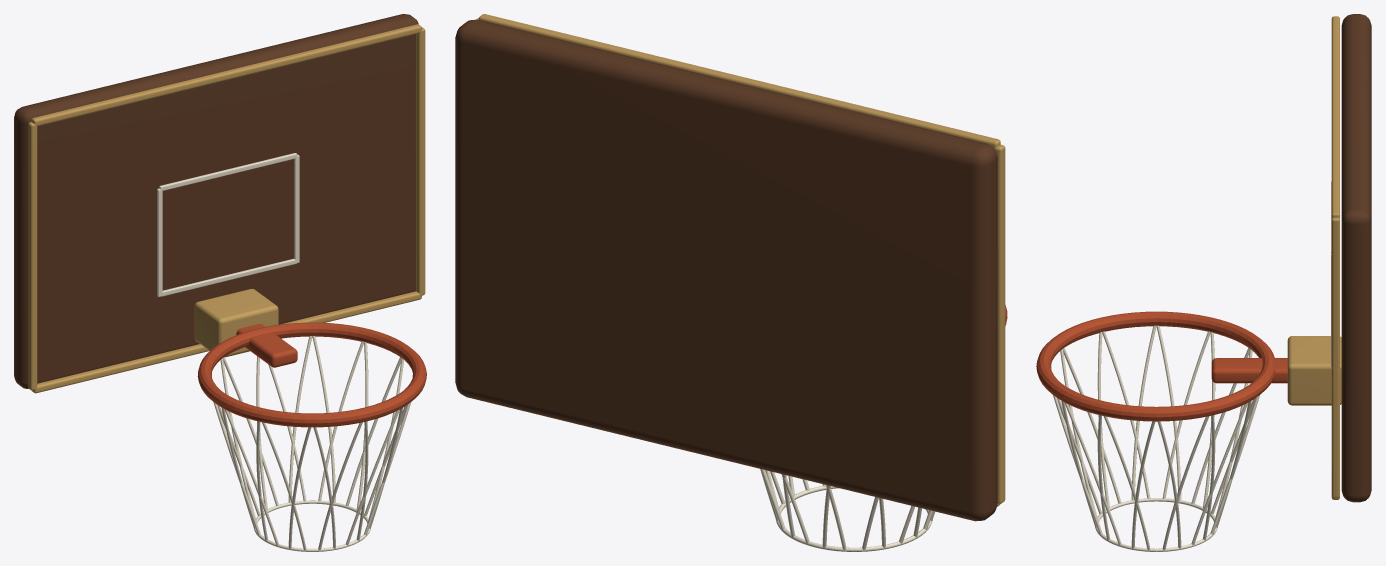
The model's file is PaperHoop.fbx.
The picture shows the model from 3 angles, left to right: view 1: azimuth 30°, elevation 25°; view 2: azimuth 150°, elevation 25°; view 3: azimuth 270°, elevation 25°; orthographic projection. The views are drawn at different scales.
Parts seen in each view (by area): view 1: Backboard, Scoring_Rim, Brass_edge.001, Rim_mount, Brass_edge, Brass_side, Brass_side.001, Rim_support, Target_edge.001, Target_edge, Net_binding.001, Target_side (+4 smaller); view 2: Backboard, Brass_edge.001, Brass_side, Net_binding.001; view 3: Backboard, Scoring_Rim, Rim_mount, Brass_side.001, Brass_edge.001, Rim_support, Net_binding.001, Net_1_06, Net_-1_06, Net_-1_07, Net_1_05, Net_1_10 (+13 smaller).
Boxes of the visible parts, x1,y1,x2,y2 form: Backboard: (14,14,418,388); Scoring_Rim: (197,322,426,427); Brass_edge.001: (31,24,421,126); Rim_mount: (194,288,278,357); Brass_edge: (32,291,421,393); Brass_side: (28,122,37,390); Brass_side.001: (416,27,425,295); Rim_support: (236,324,297,367); Target_edge.001: (159,153,297,190); Target_edge: (161,258,296,296); Net_binding.001: (254,500,370,551); Target_side: (157,188,162,296); Backboard: (455,19,997,521); Brass_edge.001: (479,14,1000,148); Brass_side: (995,144,1005,503); Net_binding.001: (776,486,931,551); Backboard: (1341,14,1371,502); Scoring_Rim: (1036,311,1275,421); Rim_mount: (1287,336,1341,405); Brass_side.001: (1331,217,1339,497); Brass_edge.001: (1331,16,1339,218); Rim_support: (1211,358,1287,383); Net_binding.001: (1095,498,1217,551); Net_1_06: (1131,325,1156,500); Net_-1_06: (1156,325,1181,500); Net_-1_07: (1102,331,1150,498); Net_1_05: (1162,331,1210,498); Net_1_10: (1064,402,1121,545).
Size of the model in its own units: 1.05 by 0.994 by 0.7285.
